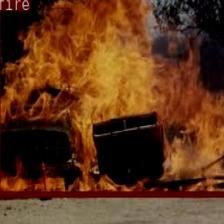fire: (0, 0, 224, 196)
